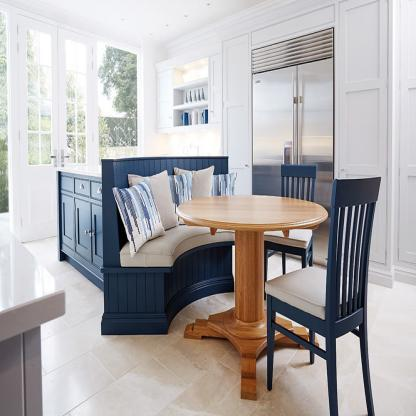chair: (265, 181, 392, 416), (265, 160, 317, 268)
sofa: (99, 148, 232, 337)
table: (172, 199, 329, 393), (0, 237, 68, 416)
